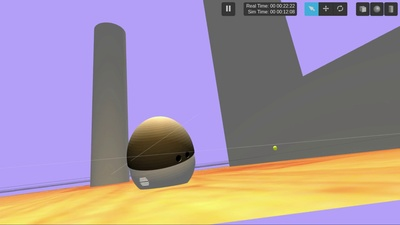mira_robot: (128, 116, 196, 190)
